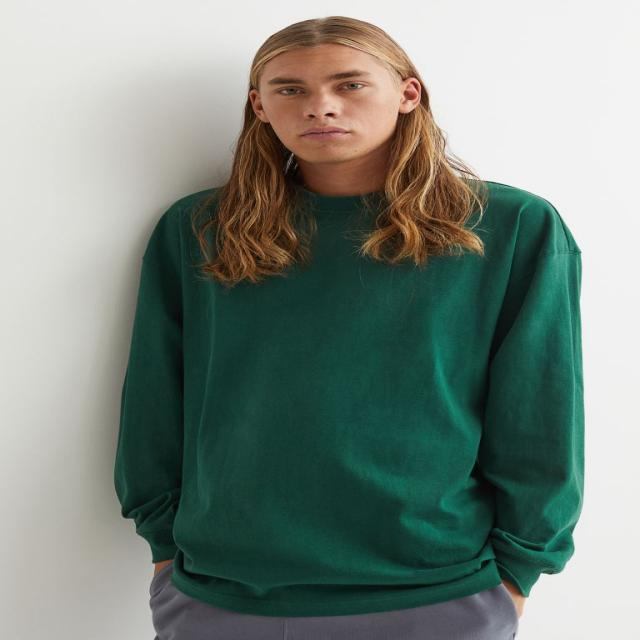plain: (112, 178, 578, 598)
